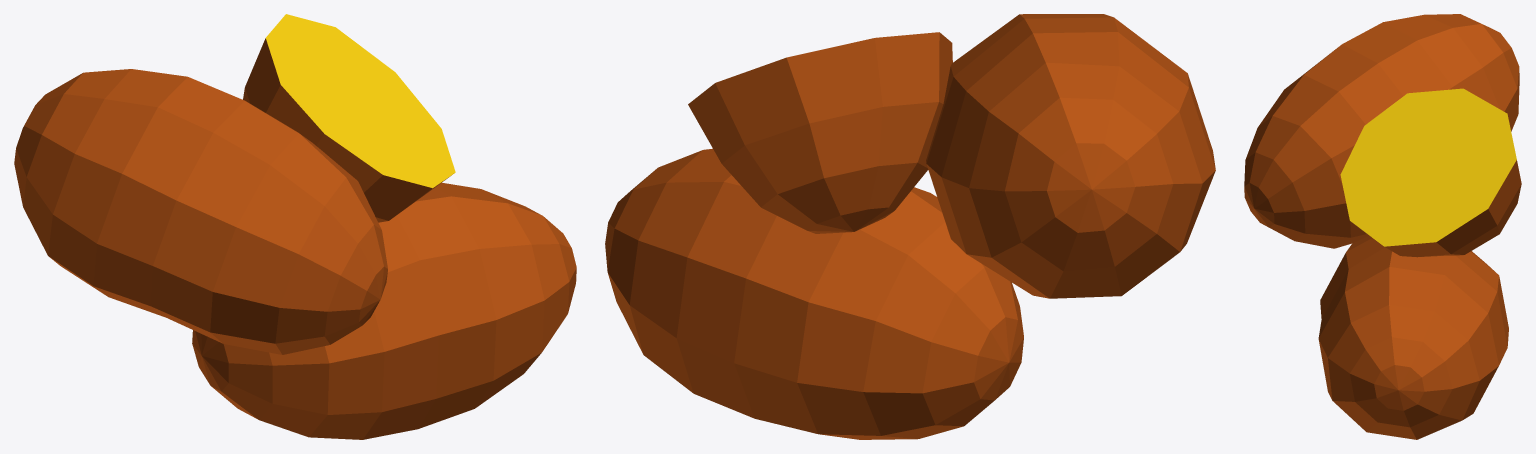
File: Potato_01.obj
The picture shows the model from 3 angles, left to right: view 1: azimuth 30°, elevation 25°; view 2: azimuth 150°, elevation 25°; view 3: azimuth 270°, elevation 25°; orthographic projection. The views are drawn at different scales.
Visible parts, largest first — view 1: pSphere25; view 2: pSphere25; view 3: pSphere25.
Part boxes in pixels (x1=…): pSphere25: x1=14, y1=14, x2=576, y2=439; pSphere25: x1=605, y1=14, x2=1215, y2=439; pSphere25: x1=1244, y1=14, x2=1521, y2=439.
Size of the model in its own units: 201 by 145 by 119.
